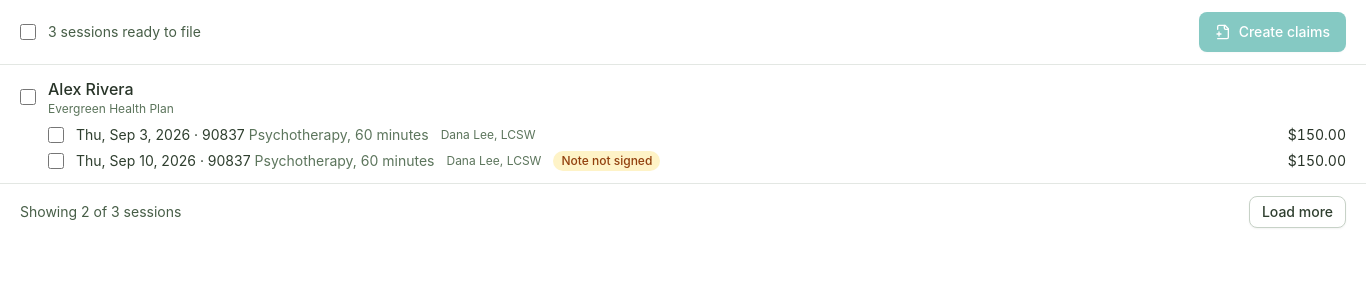
Scenario: ready to file › loads more sessions and counts every session waiting
Expected: the text "3 sessions ready to file" is shown, x1=48 y1=22 x2=201 y2=42
Expected: the text "Sam Okafor" is not shown
Click the button "Load more".
click(1297, 212)  # box x1=1249 y1=196 x2=1346 y2=228
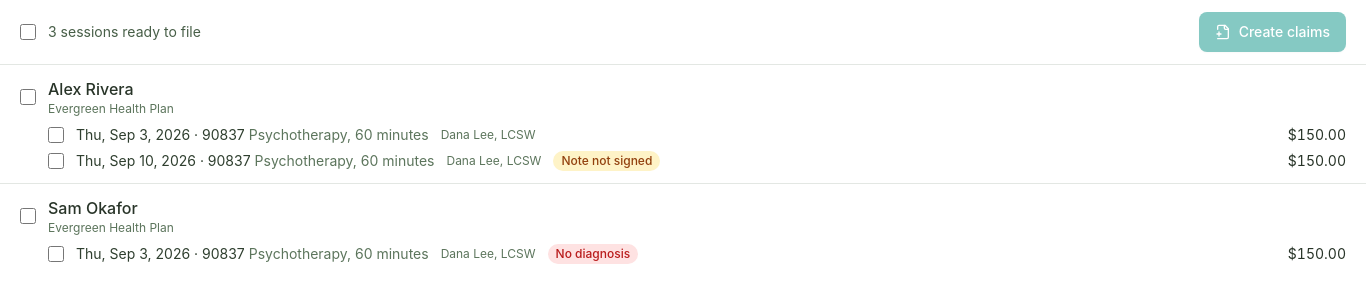
Result: the text "Sam Okafor" is shown at x1=48 y1=198 x2=138 y2=218
Result: the button "Load more" is gone
